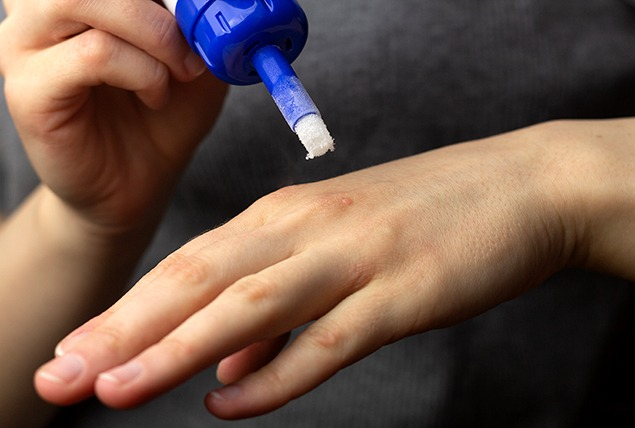Warts: (322, 188, 360, 216)
